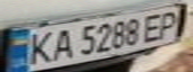2: (93, 20, 115, 53)
5: (75, 23, 96, 57)
8: (124, 15, 148, 46), (109, 17, 130, 50)
A: (45, 26, 75, 61)
E: (139, 10, 169, 43)
K: (21, 28, 60, 65)
P: (154, 8, 184, 39)
